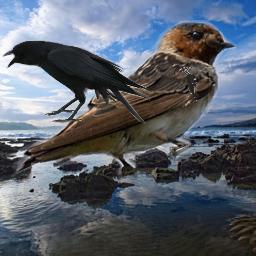Crow: (2, 40, 153, 124)
Swallow: (11, 18, 236, 182)
Woodpecker: (179, 67, 197, 102)
